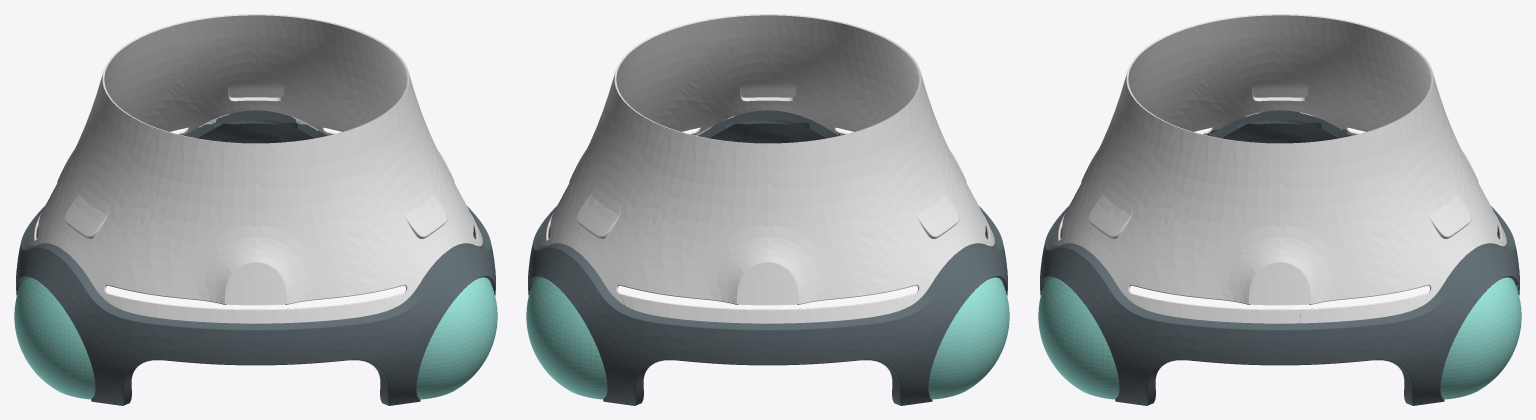
The picture shows the model from 3 angles, left to right: view 1: azimuth 30°, elevation 25°; view 2: azimuth 150°, elevation 25°; view 3: azimuth 270°, elevation 25°; orthographic projection.
Parts seen in each view (by area): view 1: Base_Link; view 2: Base_Link; view 3: Base_Link.
Part boxes in pixels (x1,y1,x2,y2): Base_Link: (14,14,497,405); Base_Link: (526,14,1009,405); Base_Link: (1038,14,1521,405).
Size of the model in its own units: 0.6943 by 0.6845 by 0.407.
